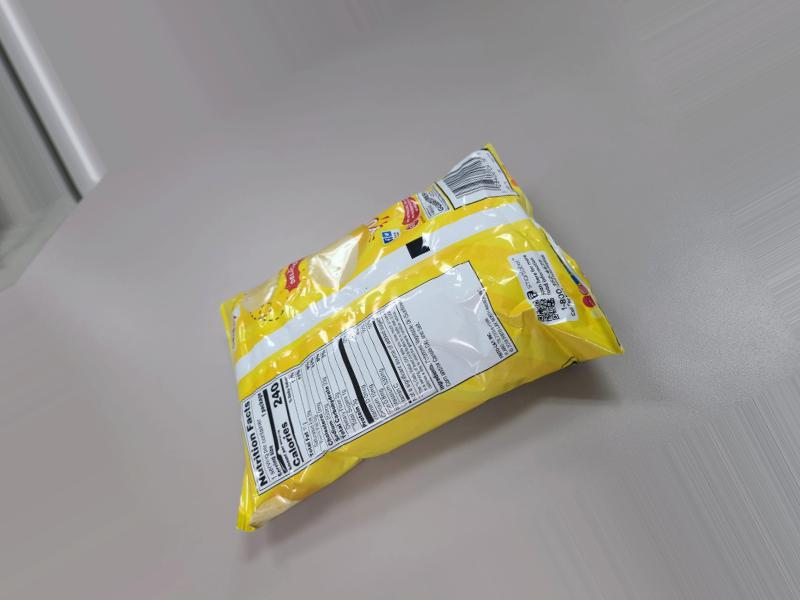lays: (250, 124, 627, 545)
